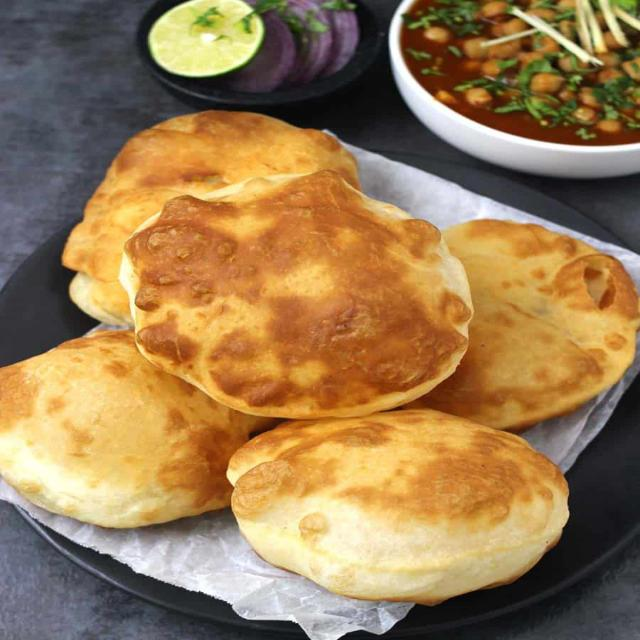puri: (119, 171, 473, 418), (228, 410, 568, 605), (63, 110, 360, 325), (0, 330, 274, 528), (413, 220, 639, 431)
